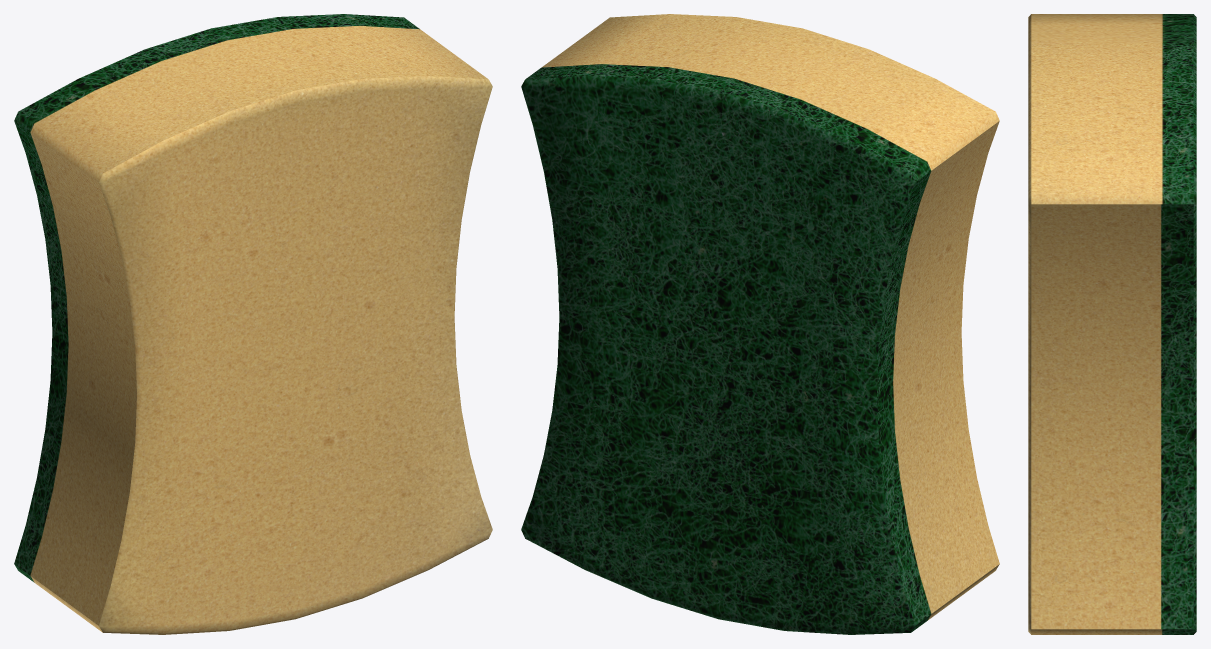
Rendered from Sponge.obj.
The picture shows the model from 3 angles, left to right: view 1: azimuth 30°, elevation 25°; view 2: azimuth 150°, elevation 25°; view 3: azimuth 270°, elevation 25°; orthographic projection. The views are drawn at different scales.
Parts seen in each view (by area): view 1: Sponge3; view 2: Sponge3; view 3: Sponge3.
Part boxes in pixels (x1,y1,x2,y2): Sponge3: (14, 14, 492, 634); Sponge3: (521, 14, 999, 634); Sponge3: (1028, 14, 1196, 634).
Size of the model in its own units: 0.0779 by 0.0999 by 0.03.
Materials: 1 (1 with a texture image).
